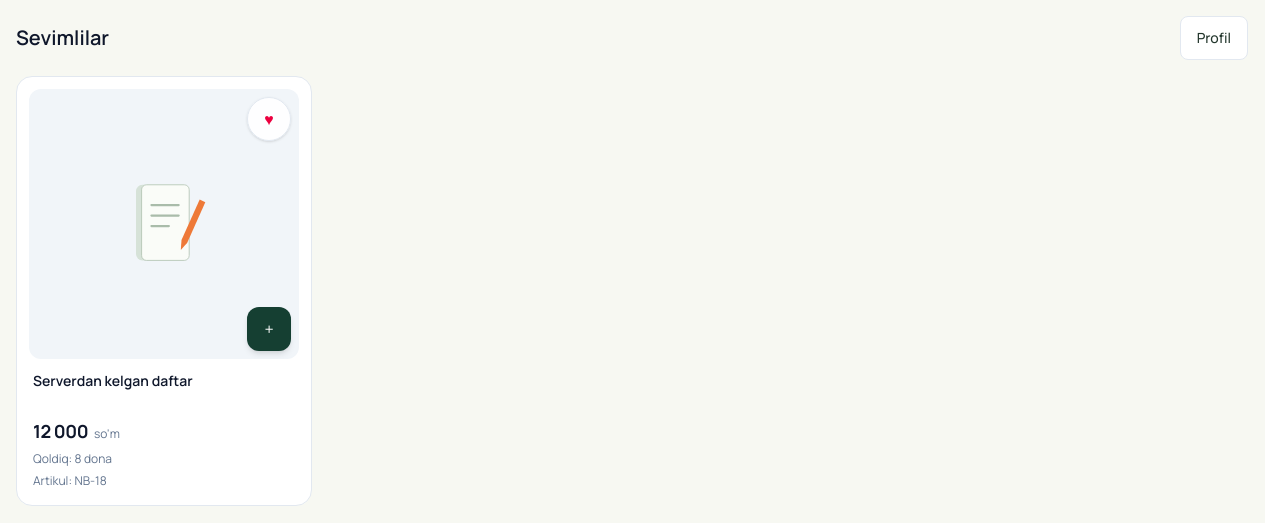
Test: customer profile, favorites and addresses › renders the favorites returned by the server and removes a favorite through its API
Expected: the text "Serverdan kelgan daftar" is shown, [33,371,193,390]
Click the button named "Sevimlilar" at coordinates (269, 119), box [247,97,291,141]
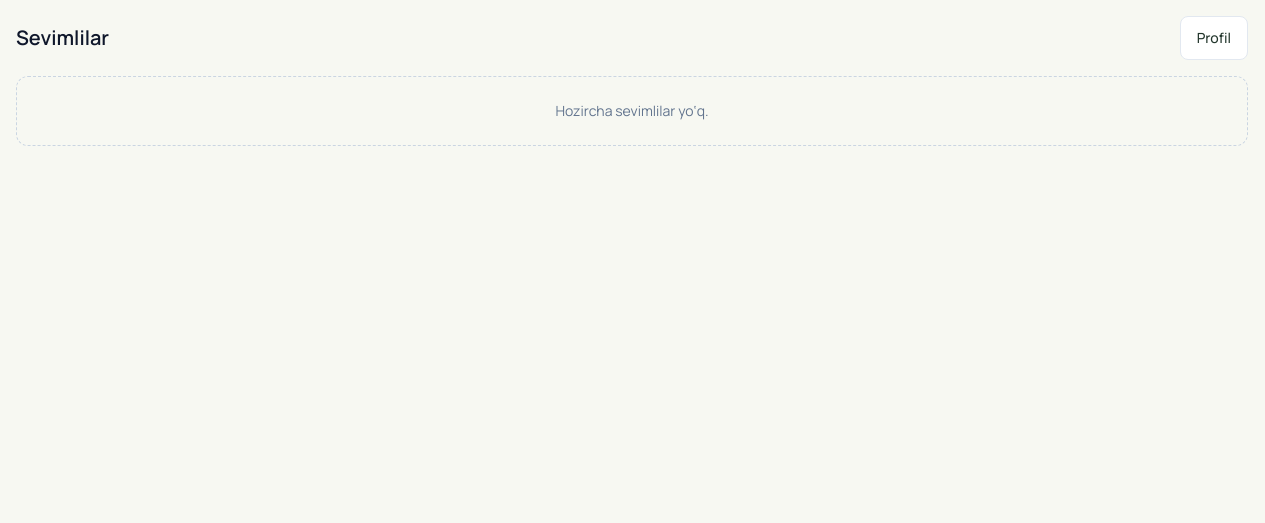
Now the link "Serverdan kelgan daftar" is gone
